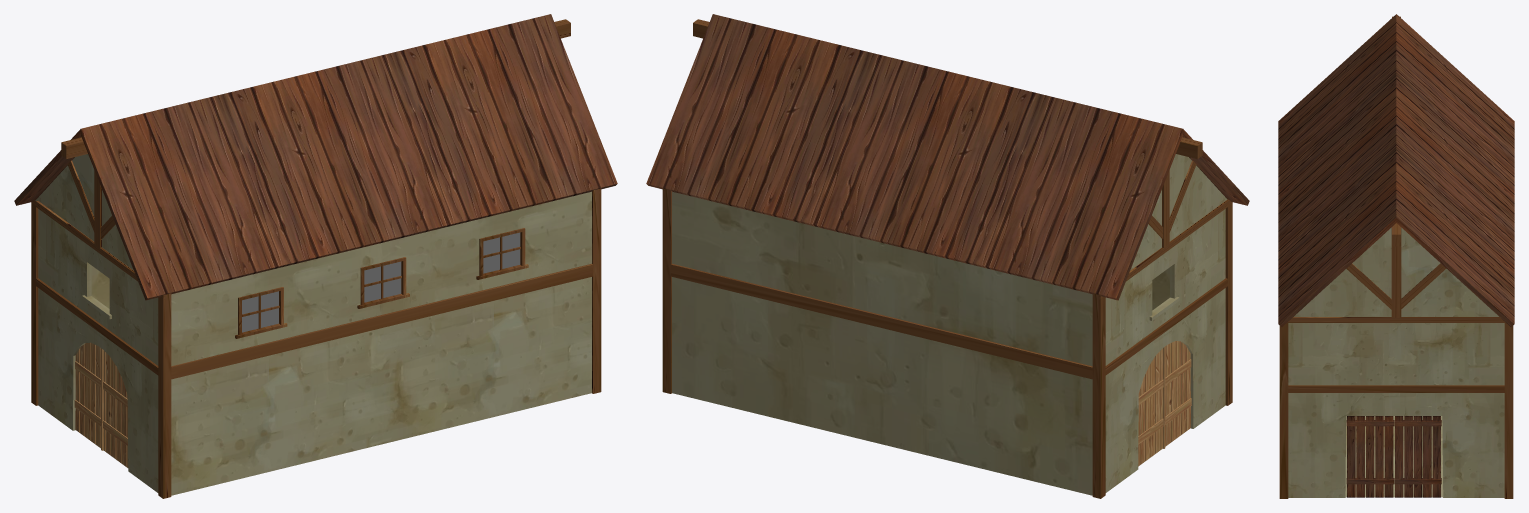
Rendered from Stable .fbx.
3 renders of one model, left to right at view 1: azimuth 30°, elevation 25°; view 2: azimuth 150°, elevation 25°; view 3: azimuth 270°, elevation 25°, orthographic. The views are drawn at different scales.
Parts seen in each view (by area): view 1: Stable, Telhado Stable, Detalhes Stable, Stable Janelas, Stable Porta; view 2: Stable, Telhado Stable, Detalhes Stable, Stable Porta; view 3: Telhado Stable, Stable, Detalhes Stable, Stable.001.
Part boxes in pixels (bbox=[...]): Stable: bbox=[35, 154, 591, 495]; Telhado Stable: bbox=[14, 14, 617, 300]; Detalhes Stable: bbox=[31, 19, 601, 498]; Stable Janelas: bbox=[235, 228, 528, 338]; Stable Porta: bbox=[74, 342, 128, 467]; Stable: bbox=[672, 154, 1227, 495]; Telhado Stable: bbox=[646, 14, 1249, 300]; Detalhes Stable: bbox=[662, 19, 1232, 498]; Stable Porta: bbox=[1138, 341, 1191, 466]; Telhado Stable: bbox=[1278, 14, 1514, 326]; Stable: bbox=[1288, 227, 1504, 497]; Detalhes Stable: bbox=[1279, 16, 1513, 498]; Stable.001: bbox=[1346, 416, 1441, 497].
Bounding box in the file's own units: 885 × 546 × 405.
